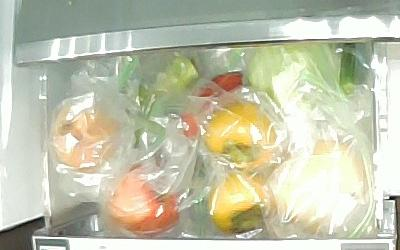apple_vinyl: (108, 164, 182, 230)
broccoli_vinyl: (120, 54, 199, 151)
grapefruit_vinyl: (273, 140, 367, 231)
lettuce_vinyl: (248, 43, 344, 105)
paprika_vinyl: (179, 71, 243, 140)
peach_vinyl: (49, 101, 121, 172)
persimmon_vinyl: (202, 102, 278, 168), (208, 172, 276, 233)
